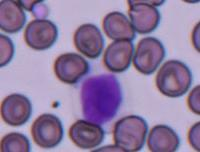L: (80, 72, 125, 125)
